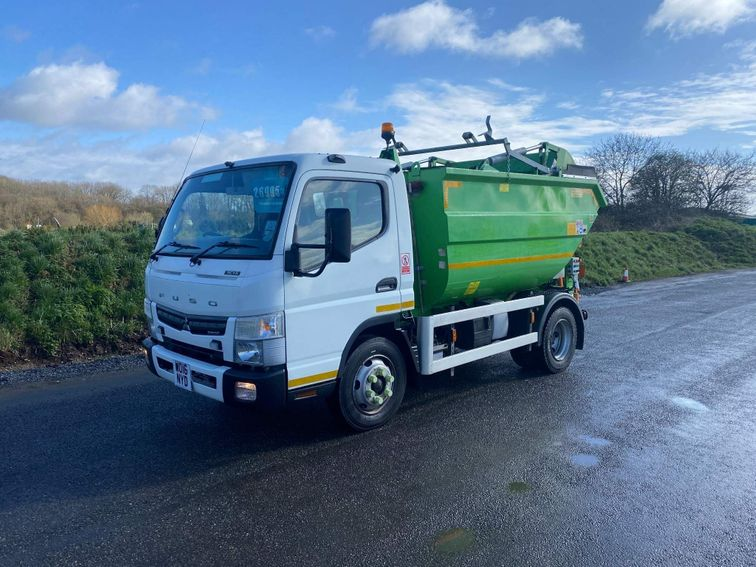Semi: (142, 122, 608, 432)
